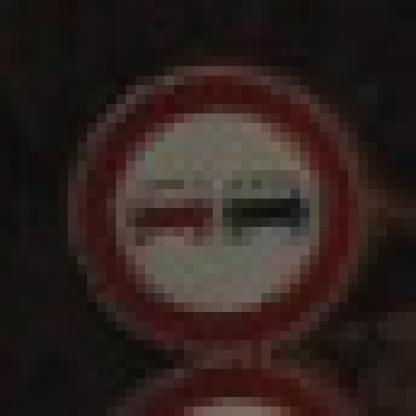No Overtaking: (49, 58, 369, 370)
